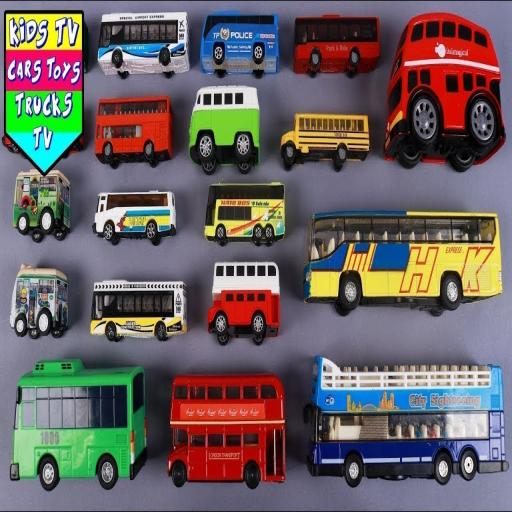bus: (302, 357, 508, 487), (306, 212, 502, 316), (385, 14, 508, 176), (9, 358, 149, 492), (171, 371, 287, 489), (92, 274, 189, 346), (97, 10, 192, 82), (205, 260, 282, 348), (292, 9, 384, 82), (187, 86, 262, 174), (279, 105, 372, 174), (198, 5, 281, 82), (96, 93, 174, 167), (204, 180, 288, 247), (92, 185, 177, 251), (11, 263, 69, 345), (13, 166, 71, 246)
